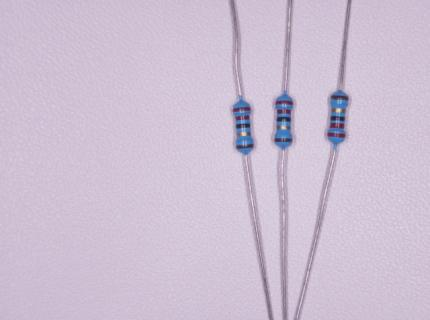Black band: (236, 123, 250, 129), (330, 116, 345, 121), (277, 117, 291, 122)
Brown band: (331, 95, 349, 101), (236, 144, 254, 149), (275, 138, 292, 143)
Gold band: (331, 108, 346, 113), (237, 132, 251, 137), (277, 125, 291, 130)
Red band: (327, 132, 345, 138), (233, 107, 250, 112), (276, 100, 293, 105), (236, 115, 250, 121), (330, 123, 344, 129), (277, 109, 291, 114)
